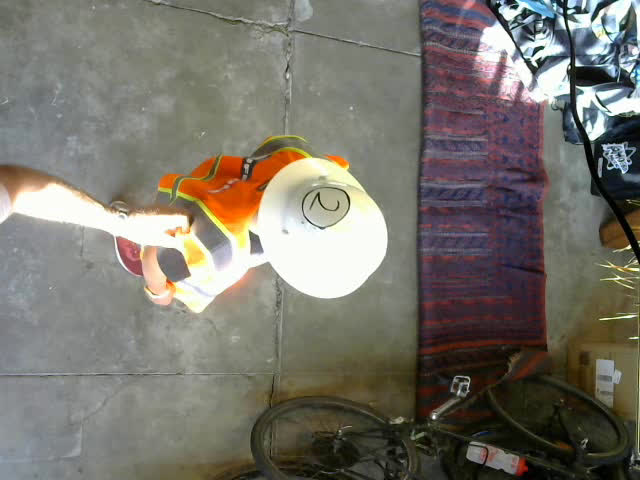two: (301, 187, 351, 229)
